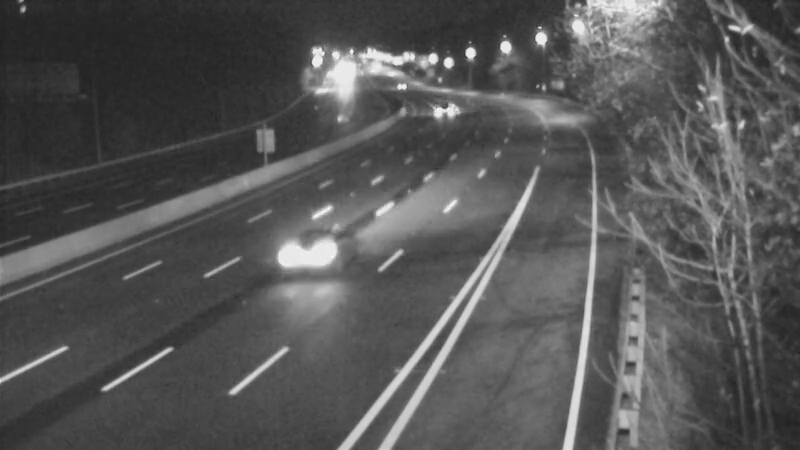vehicle: (260, 215, 340, 295), (376, 60, 426, 110), (415, 80, 465, 130)
